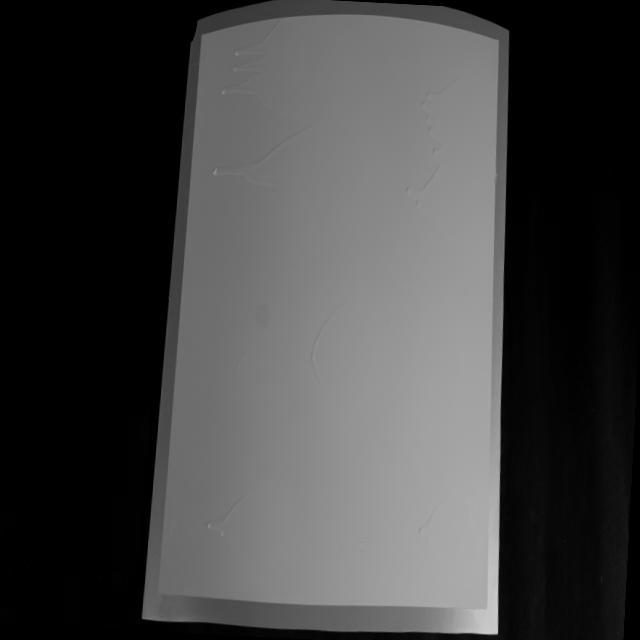paint drips: (210, 14, 316, 200), (403, 75, 458, 216), (200, 488, 248, 558), (306, 308, 337, 392), (414, 496, 444, 542), (233, 348, 249, 378)
